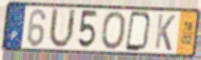5: (76, 9, 100, 50)
6: (26, 7, 47, 48)
D: (124, 10, 153, 53)
K: (153, 13, 176, 53)
O: (100, 10, 127, 52)
U: (47, 7, 77, 51)
